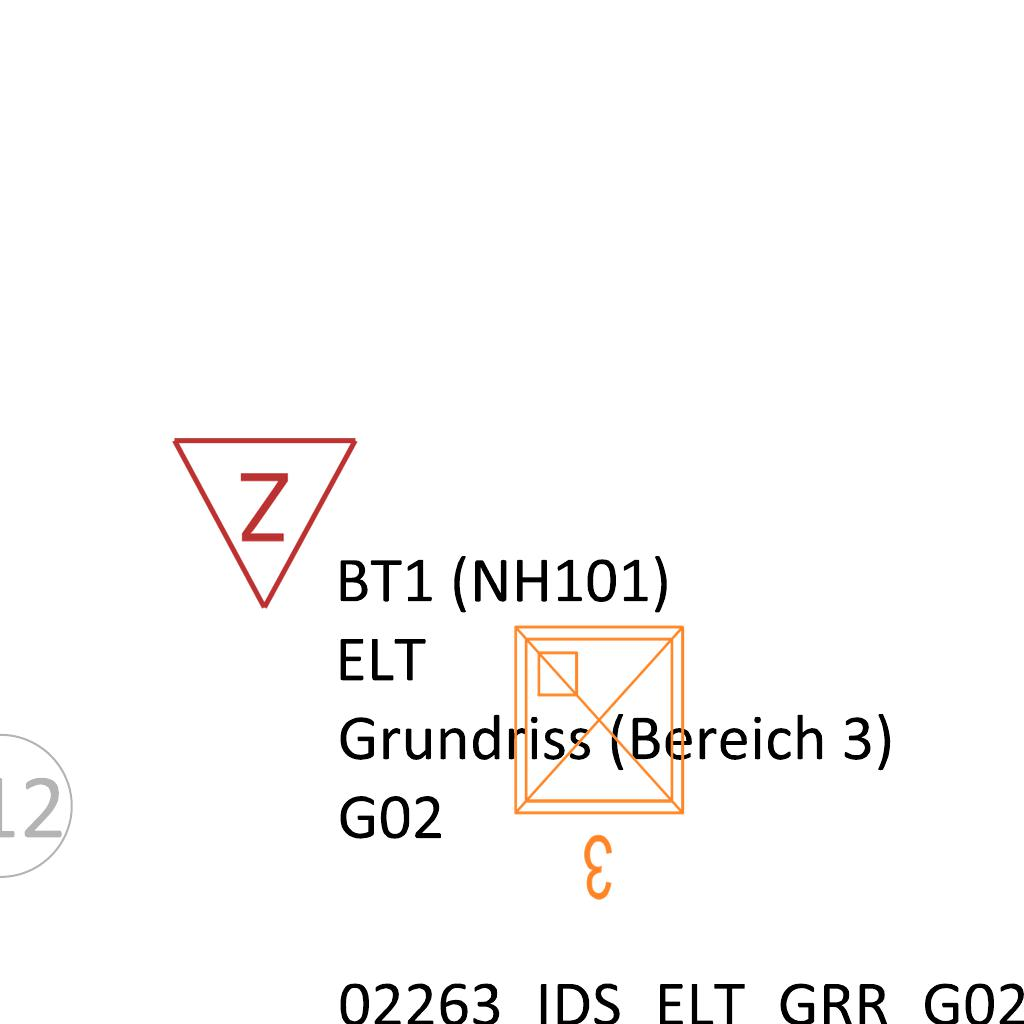Einbaudownlights_LED_Konferenzraeume: (499, 611, 707, 911)
Zimmersignalleuchte: (169, 423, 365, 623)
